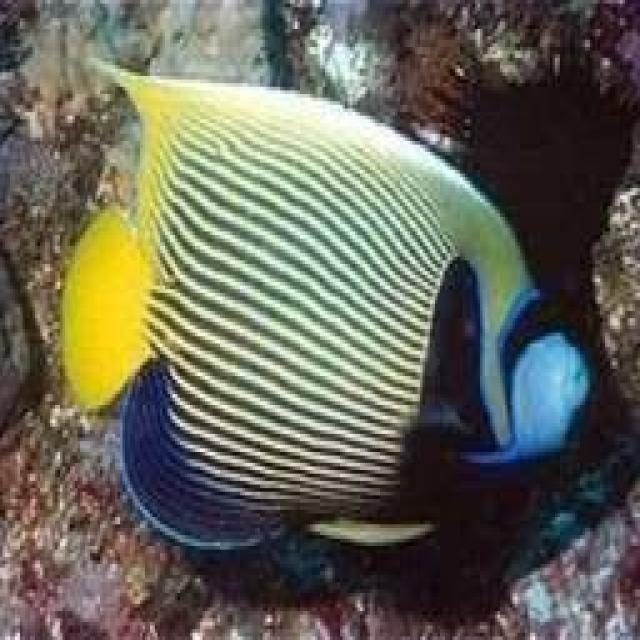AngelFish: (65, 51, 587, 538)
